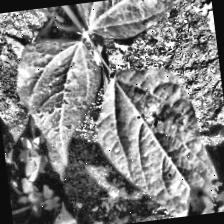ALS: (112, 62, 222, 222), (14, 29, 110, 161), (73, 0, 201, 48)
